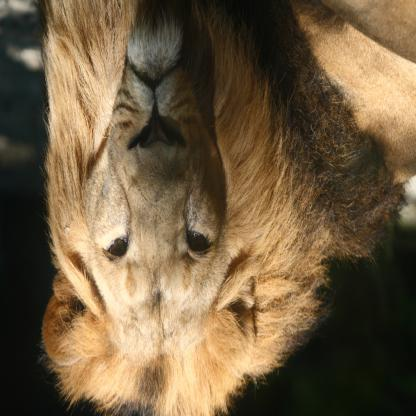lion: (44, 0, 282, 411)
